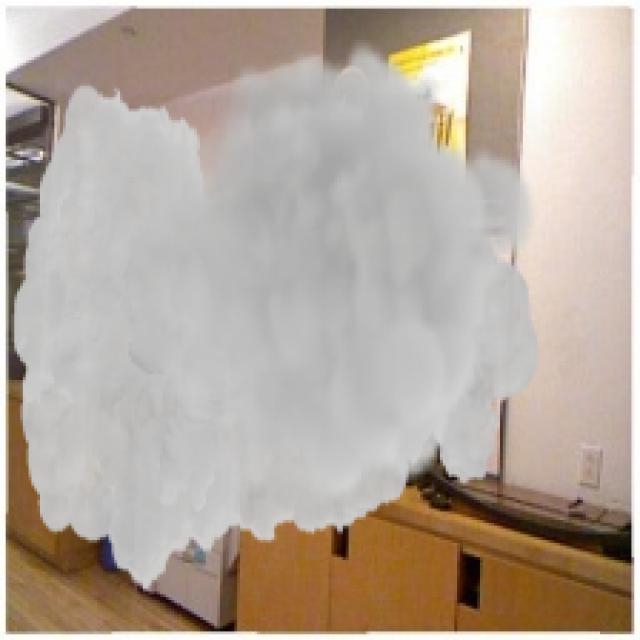smoke: (11, 40, 540, 594)
